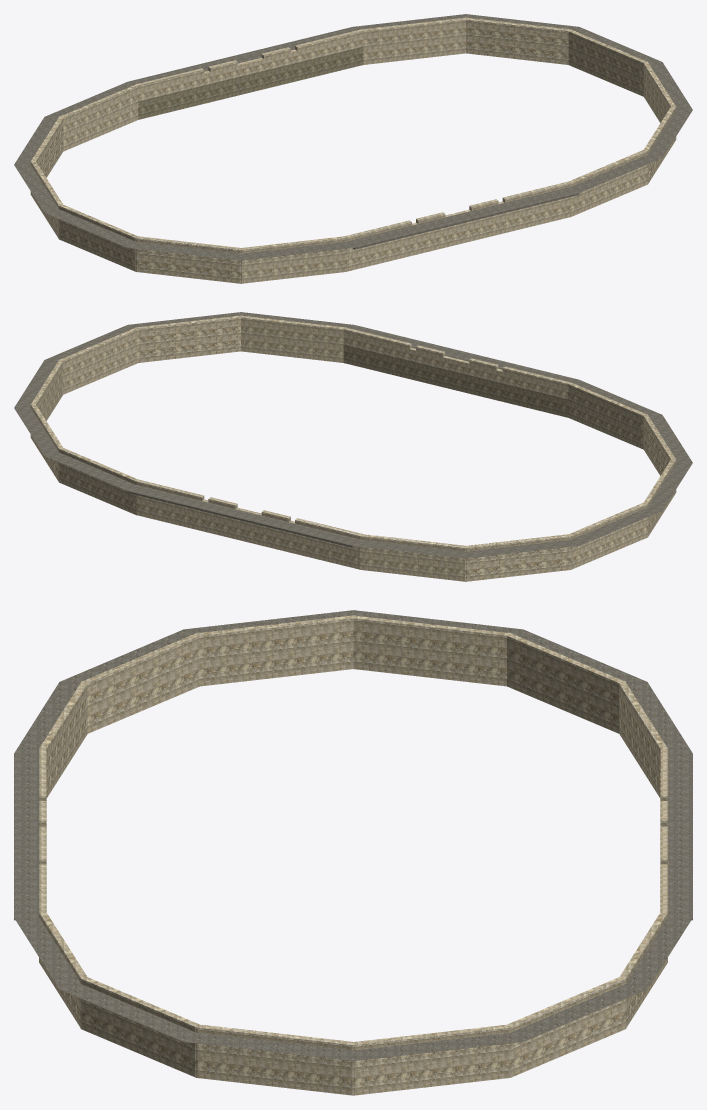
File: bw-quay.zfix-v14.lod1.glb
3 renders of one model, top to bottom at view 1: azimuth 30°, elevation 25°; view 2: azimuth 150°, elevation 25°; view 3: azimuth 270°, elevation 25°, orthographic. The views are drawn at different scales.
Visible parts, largest first — view 1: bw-quay; view 2: bw-quay; view 3: bw-quay.
Part boxes in pixels (x1,y1,x2,y2): bw-quay: [14, 14, 692, 283]; bw-quay: [14, 312, 692, 581]; bw-quay: [14, 610, 692, 1095].
Bounding box in the file's own units: 151 × 7.97 × 96.19.
2 materials, 2 textured.
